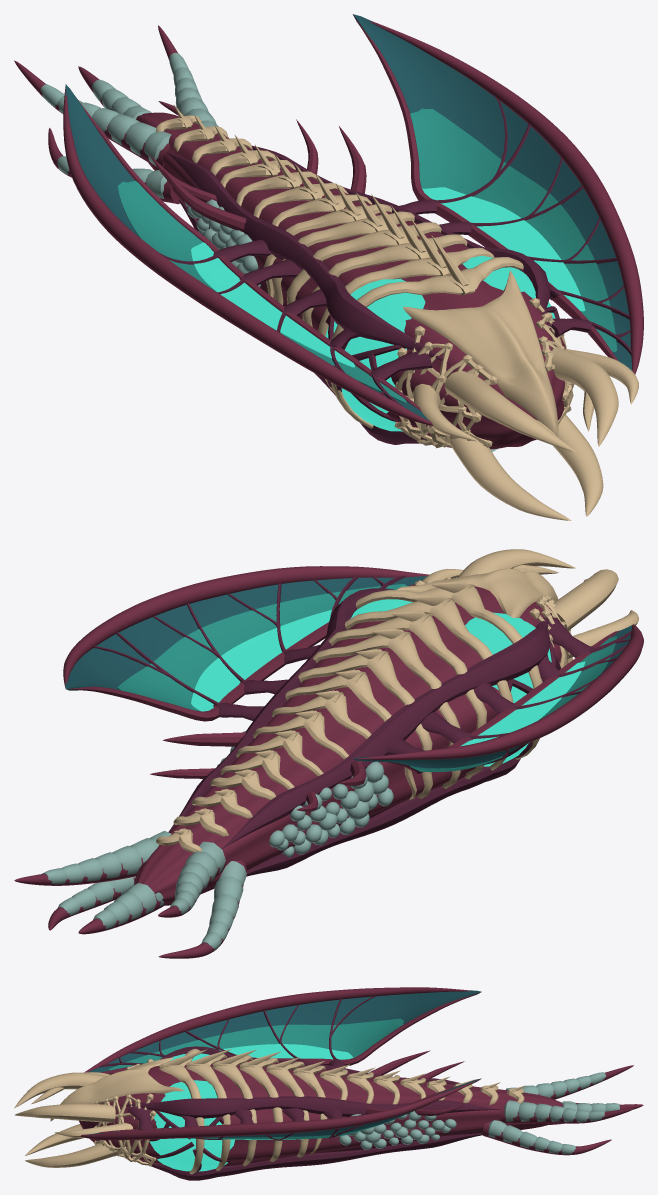
Rendered from unknown_contact.glb.
3 renders of one model, top to bottom at view 1: azimuth 30°, elevation 25°; view 2: azimuth 150°, elevation 25°; view 3: azimuth 270°, elevation 25°, orthographic. The views are drawn at different scales.
Visible parts, largest first — view 1: unknown_contact; view 2: unknown_contact; view 3: unknown_contact.
Boxes of the visible parts, box(x1,y1,x2,y2) form: unknown_contact: box(14, 14, 643, 520); unknown_contact: box(14, 549, 643, 958); unknown_contact: box(14, 987, 643, 1180).
Bounding box in the file's own units: 5.99 × 2.68 × 12.
